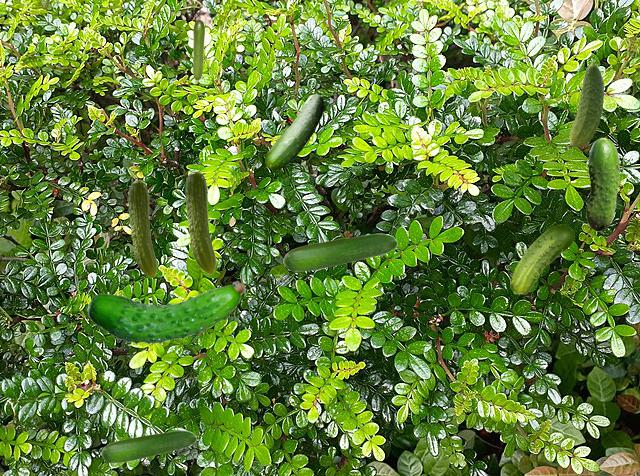cucumber: (86, 273, 244, 344), (510, 224, 573, 293), (283, 233, 396, 271), (265, 94, 322, 168), (564, 60, 603, 148), (586, 137, 619, 230), (185, 171, 215, 273), (101, 430, 195, 462), (128, 180, 156, 277), (193, 20, 203, 79)
